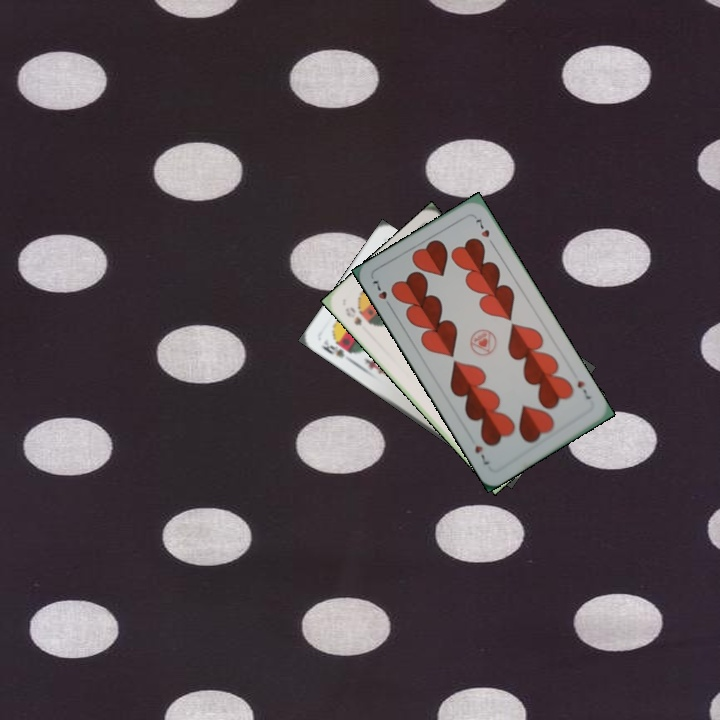H7: (366, 275, 395, 311), (573, 376, 595, 402)
SK: (316, 335, 354, 361)
SO: (341, 303, 364, 328)
